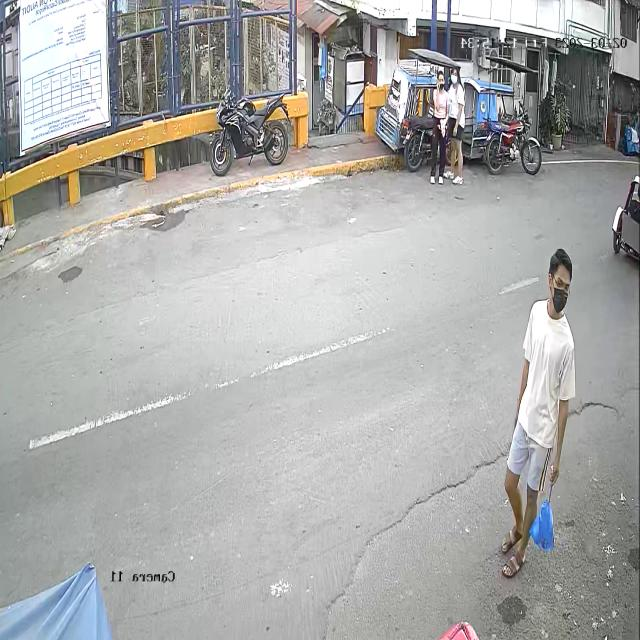human: (501, 248, 576, 578)
trash: (530, 482, 558, 553)
